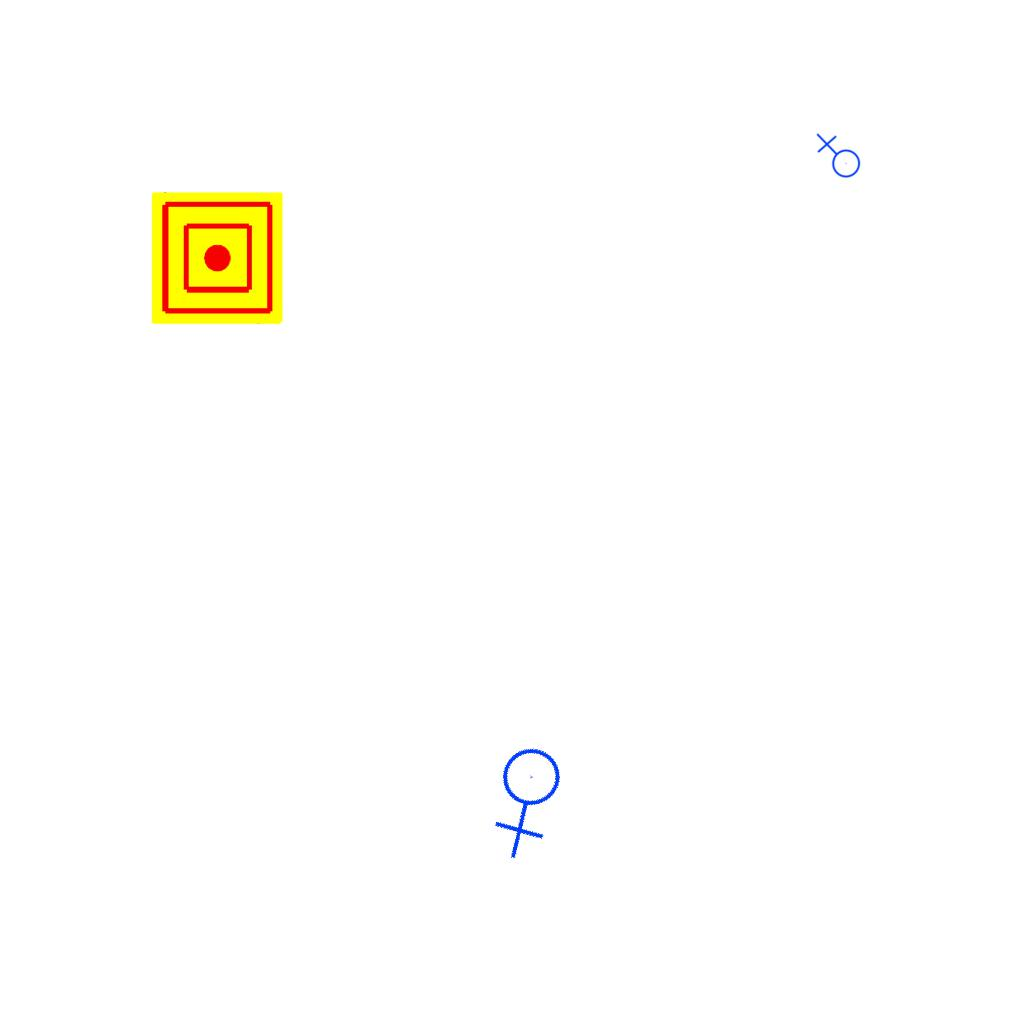Elektroanschluss_allgemein_230V_Geraeteanschlussdose_230V: (463, 731, 598, 865), (814, 133, 861, 182)
NAM-Nichtautomatischer_Melder: (151, 192, 283, 324)
